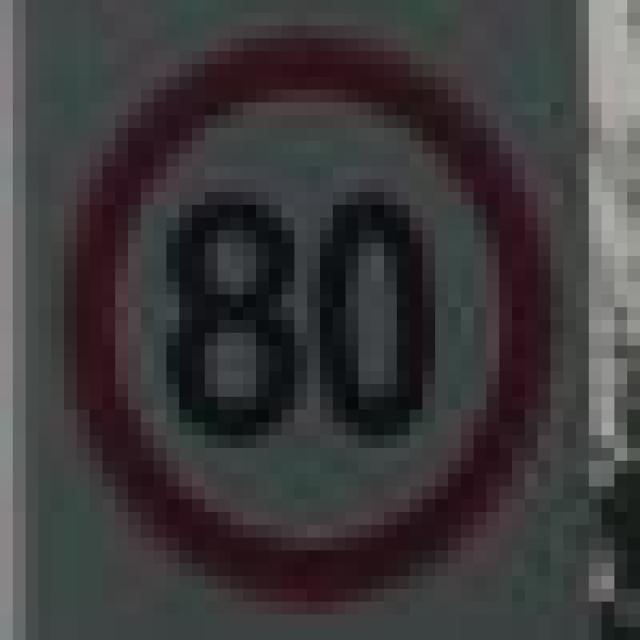speed_limit_50: (38, 38, 550, 589)
